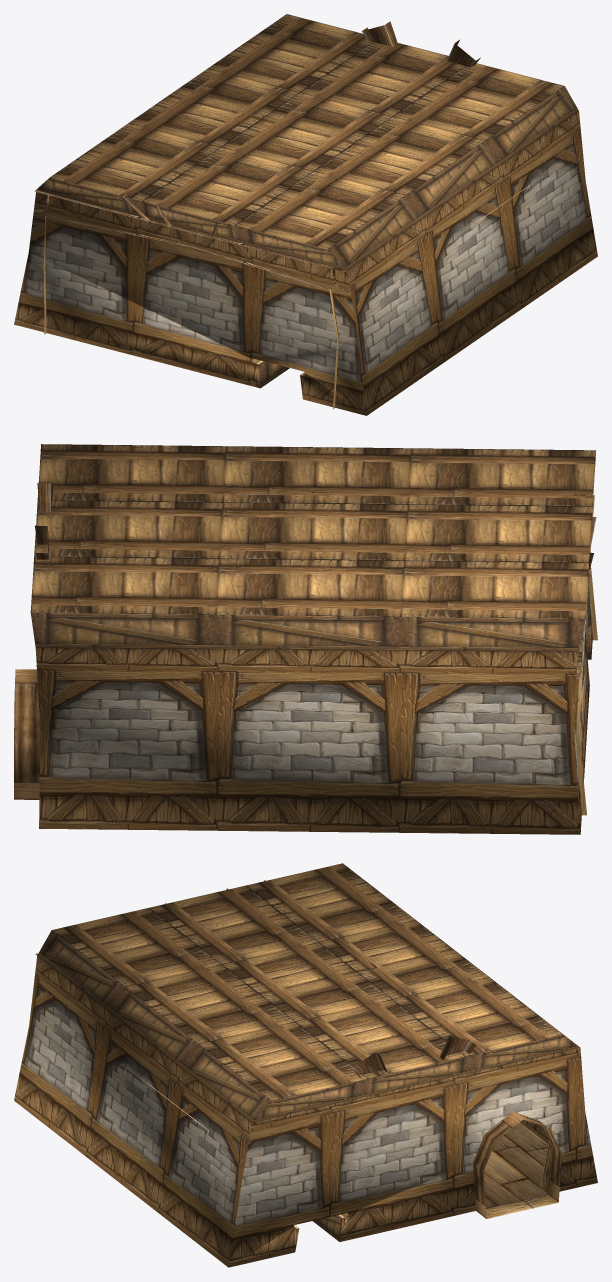
The model's file is stormwind_225.fbx.
3 views of the same model, one above another, from view 1: azimuth 30°, elevation 25°; view 2: azimuth 150°, elevation 25°; view 3: azimuth 270°, elevation 25° (orthographic). The views are drawn at different scales.
Visible parts, largest first — view 1: stormwind_225_87, stormwind_225_55, stormwind_225_56, stormwind_225_53; view 2: stormwind_225_87, stormwind_225_55, stormwind_225_56, stormwind_225_49, stormwind_225_53; view 3: stormwind_225_87, stormwind_225_55, stormwind_225_56, stormwind_225_51, stormwind_225_53, stormwind_225_49.
Part boxes in pixels (<box>): stormwind_225_87: <box>14,111,597,415</box>; stormwind_225_55: <box>50,14,564,249</box>; stormwind_225_56: <box>37,86,578,388</box>; stormwind_225_53: <box>34,21,480,408</box>; stormwind_225_87: <box>35,584,592,834</box>; stormwind_225_55: <box>30,444,595,618</box>; stormwind_225_56: <box>30,612,591,659</box>; stormwind_225_49: <box>14,669,40,799</box>; stormwind_225_53: <box>35,483,597,815</box>; stormwind_225_87: <box>14,956,597,1267</box>; stormwind_225_55: <box>52,863,562,1101</box>; stormwind_225_56: <box>37,889,579,1241</box>; stormwind_225_51: <box>483,1122,548,1208</box>; stormwind_225_53: <box>35,880,560,1218</box>; stormwind_225_49: <box>473,1111,561,1218</box>.
Bounding box in the file's own units: 21.21 × 7.09 × 20.79.
